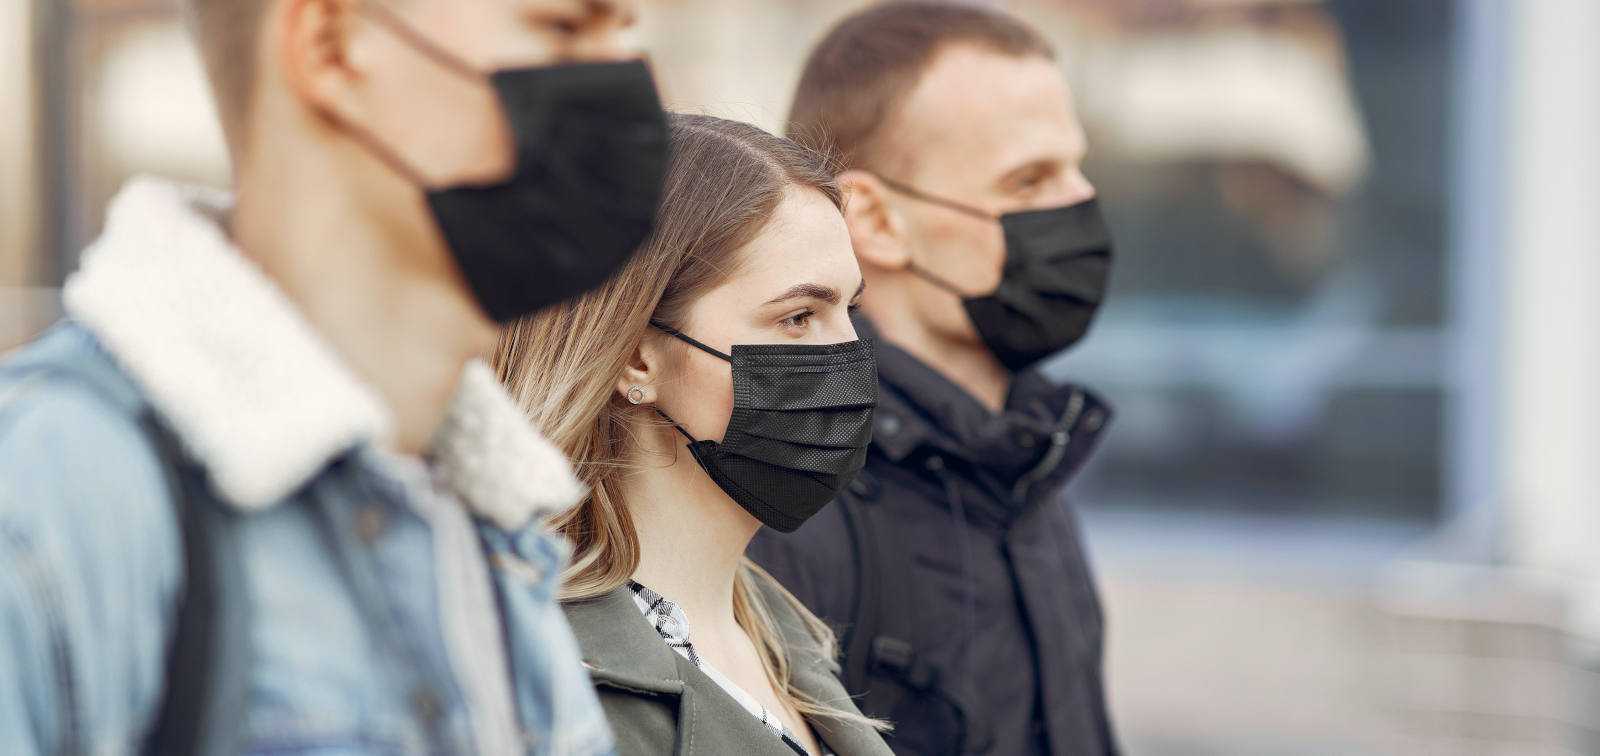with_mask: (564, 121, 895, 566), (290, 1, 688, 317), (819, 19, 1160, 377)
